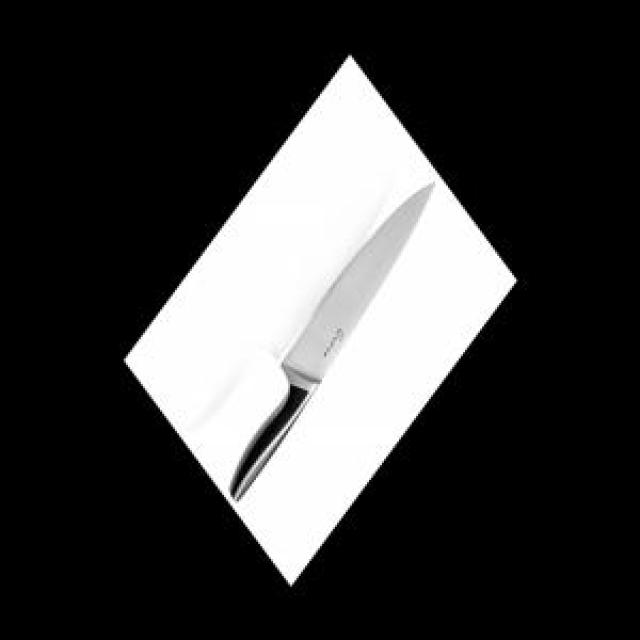knife: (226, 175, 436, 507)
